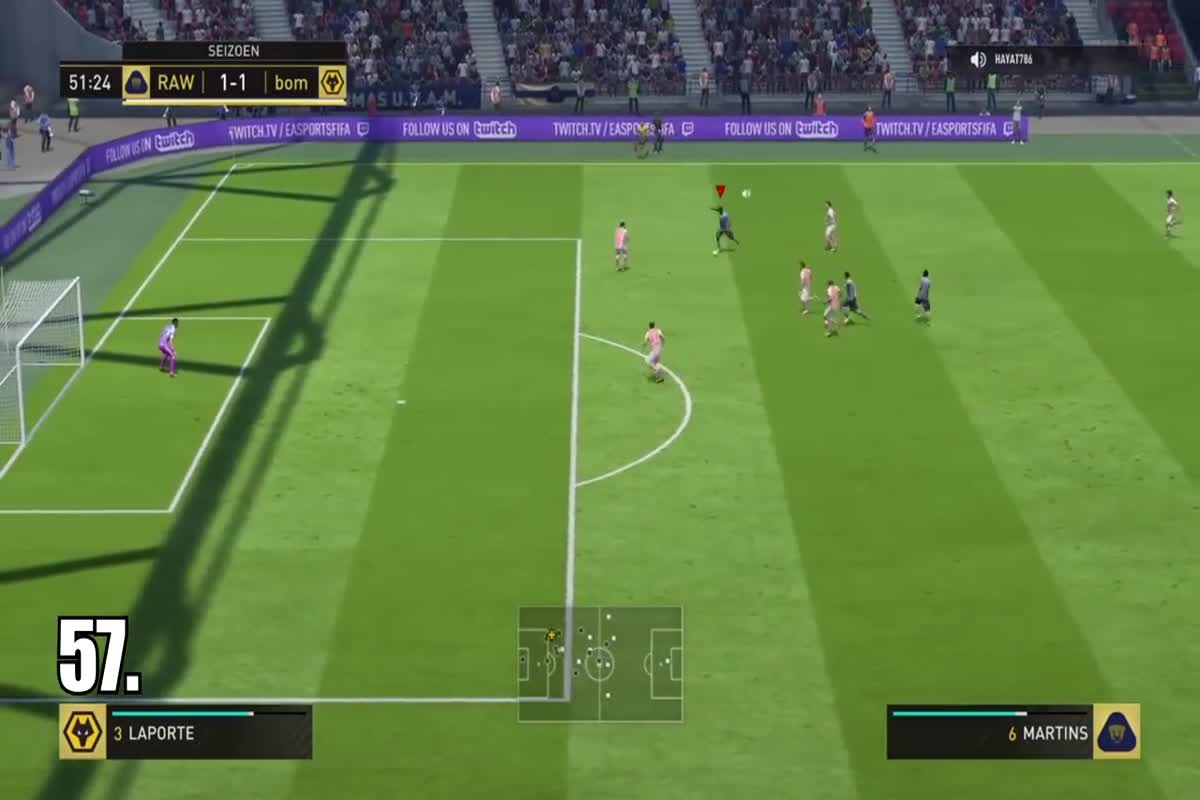ball: (704, 248, 727, 262)
